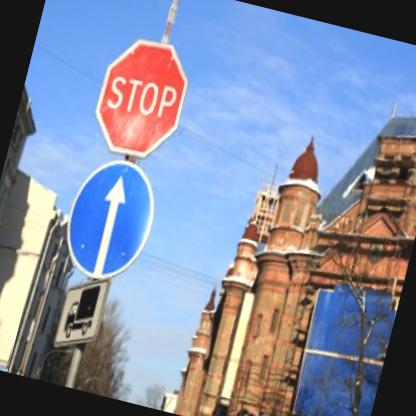stop: (86, 30, 196, 162)
